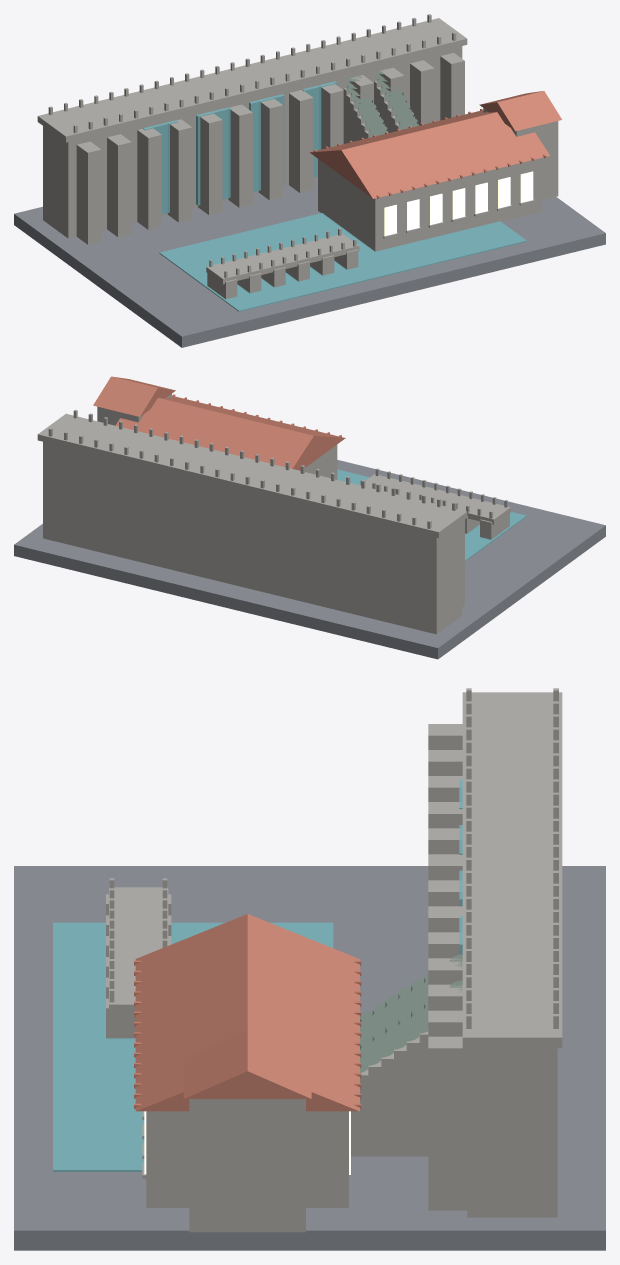
File: lm_62_dap_thuy_dien_ankroet_1942_indochina_heritage_stone_hydro_plant.glb
3 views of the same model, one above another, from view 1: azimuth 30°, elevation 25°; view 2: azimuth 150°, elevation 25°; view 3: azimuth 270°, elevation 25° (orthographic). The views are drawn at different scales.
Visible parts, largest first — view 1: lm_62_dap_thuy_dien_ankroet_1942_indochina_heritage_stone_hy; view 2: lm_62_dap_thuy_dien_ankroet_1942_indochina_heritage_stone_hy; view 3: lm_62_dap_thuy_dien_ankroet_1942_indochina_heritage_stone_hy.
Boxes of the visible parts, x1,y1,x2,y2 form: lm_62_dap_thuy_dien_ankroet_1942_indochina_heritage_stone_hy: [14, 14, 605, 347]; lm_62_dap_thuy_dien_ankroet_1942_indochina_heritage_stone_hy: [14, 376, 605, 659]; lm_62_dap_thuy_dien_ankroet_1942_indochina_heritage_stone_hy: [14, 688, 605, 1250].
Size of the model in its own units: 56 by 15.3 by 38.
